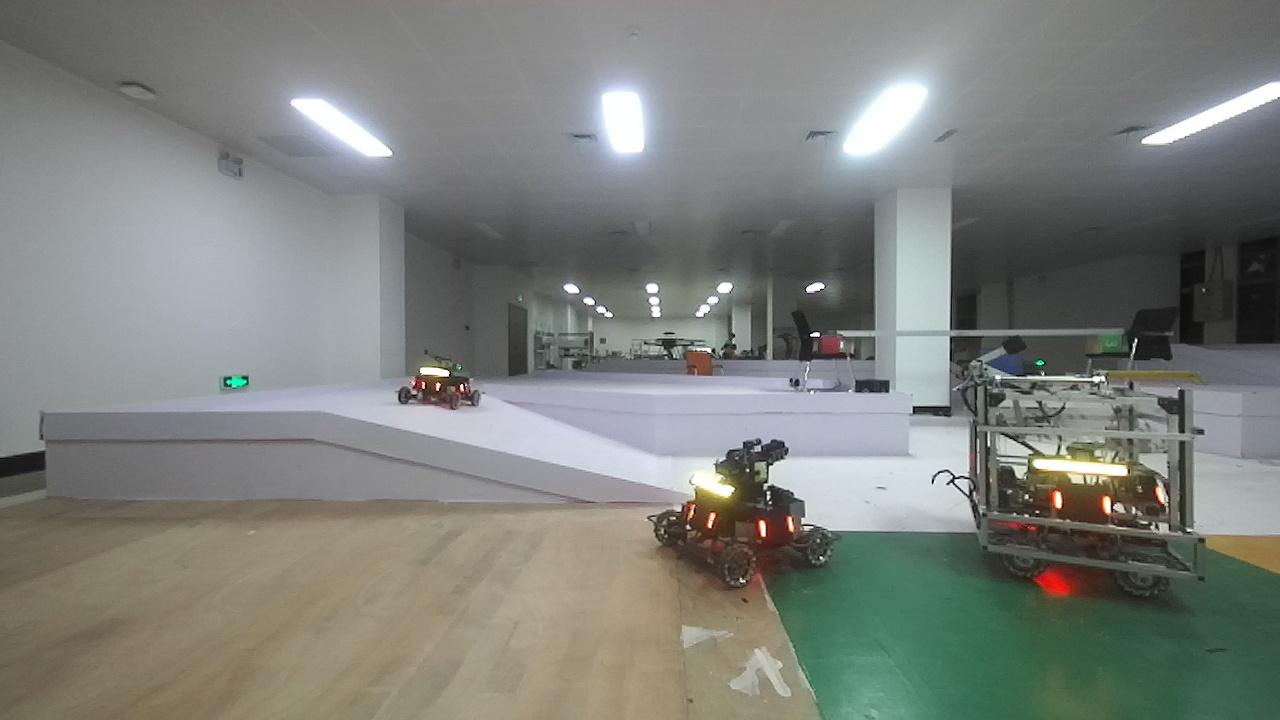car: (933, 336, 1221, 619), (635, 425, 843, 596), (379, 345, 494, 433)
